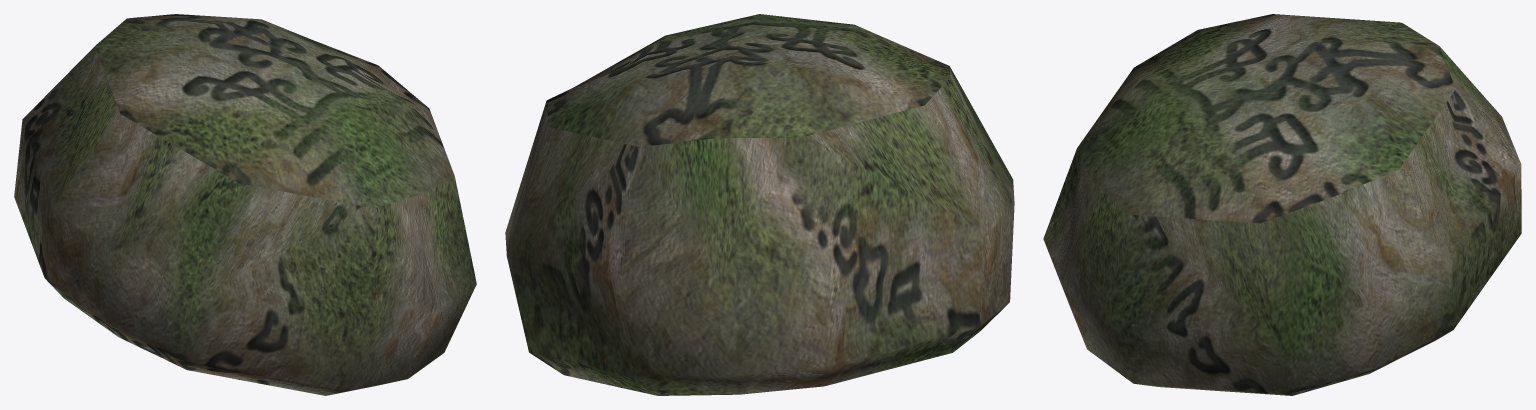
Rendered from RuneGlowStone2Shape.dae.
3 renders of one model, left to right at view 1: azimuth 30°, elevation 25°; view 2: azimuth 150°, elevation 25°; view 3: azimuth 270°, elevation 25°, orthographic. The views are drawn at different scales.
Parts seen in each view (by area): view 1: RuneGlowStone2; view 2: RuneGlowStone2; view 3: RuneGlowStone2.
Boxes of the visible parts, <box> form: RuneGlowStone2: <box>14,14,476,395</box>; RuneGlowStone2: <box>505,14,1014,395</box>; RuneGlowStone2: <box>1043,14,1521,395</box>.
Bounding box in the file's own units: 4.64 × 3.38 × 5.02.
